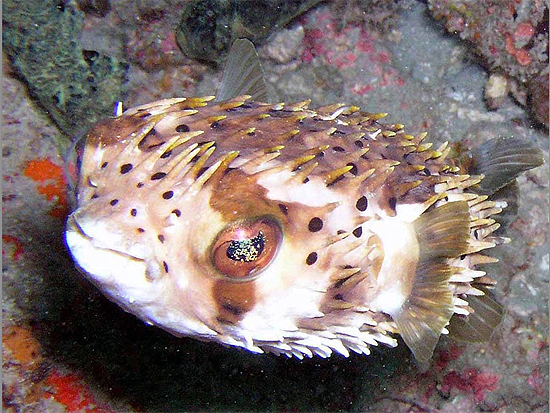Diodon_holocanthus: (47, 79, 521, 379)
